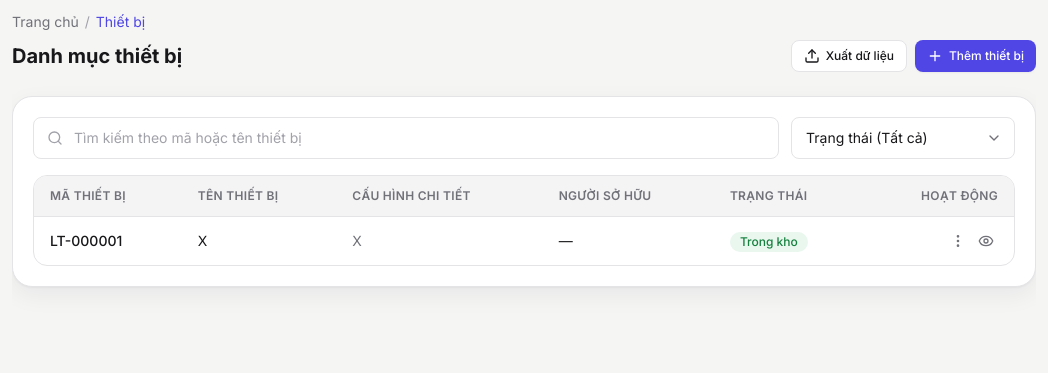
it: Dọn thùng rác (Trưởng phòng Kỹ thuật, đang lọc "Đã xóa"): xoá vĩnh viễn toàn bộ thiết bị đang hiển thị
Check: the text "LT-000001" is shown, box left=50, top=232, right=122, bottom=249
Select "Đã xóa" in the dropdown at (903, 138), box left=791, top=117, right=1015, bottom=159
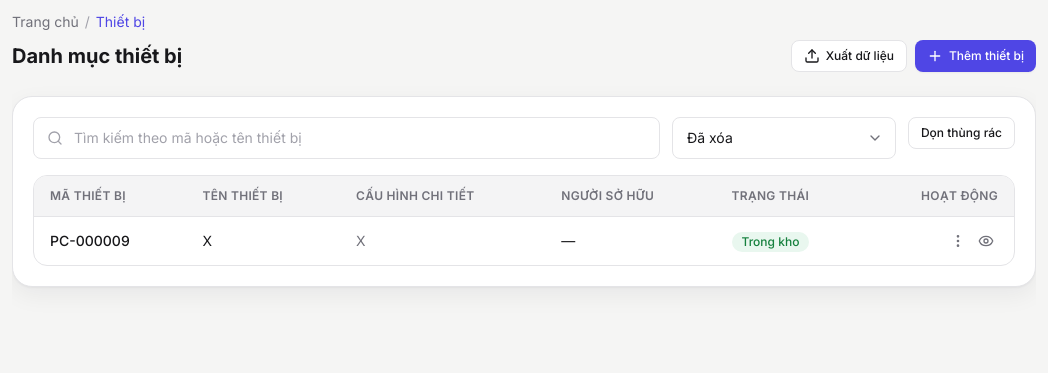
Check: the text "PC-000009" is shown, box left=50, top=232, right=130, bottom=249
Click the button "Dọn thùng rác".
click(962, 133)  # box left=908, top=117, right=1015, bottom=149
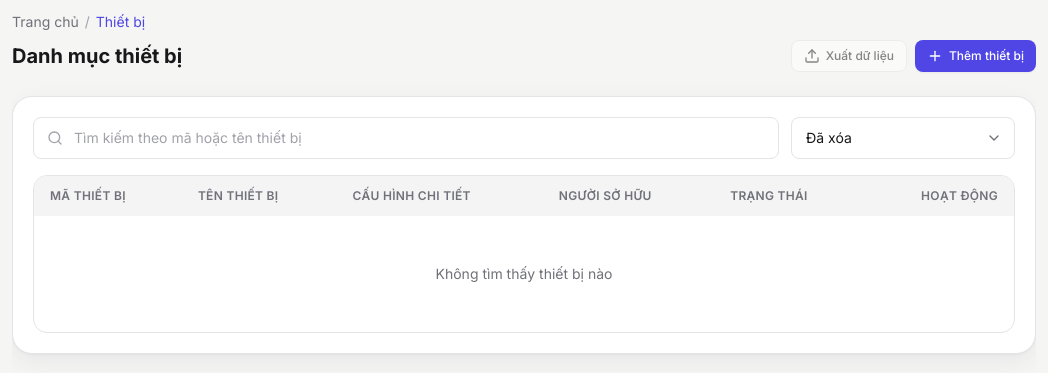
Check: the text "Không tìm thấy thiết bị nào" is shown, box left=34, top=216, right=1014, bottom=332
